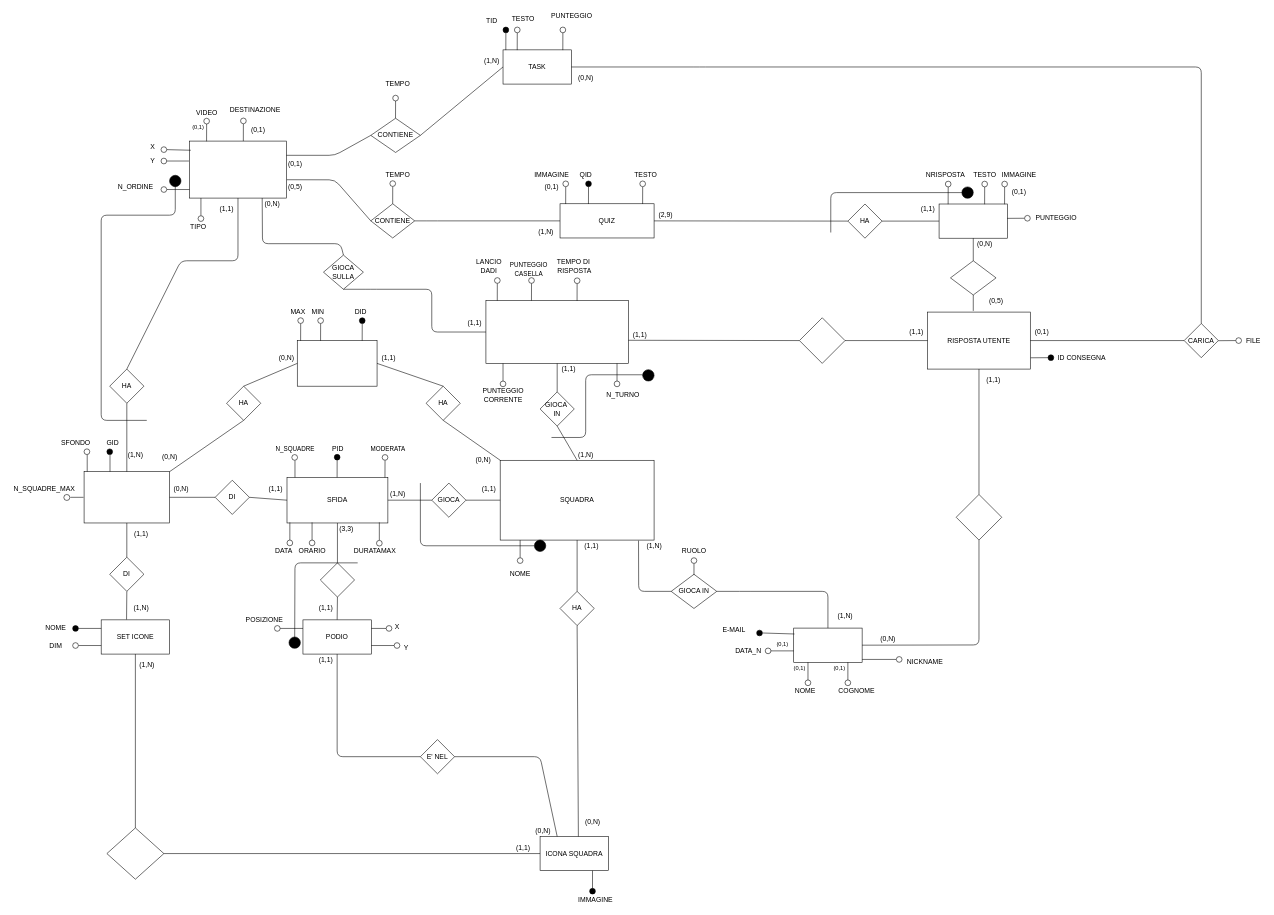
Some shapes in this 1274 by 915 pixel diagram are drawn without their labels. Each missing label, with the centre of its shape:
APPARTIENE: (135,853)
CASELLA: (237,169)
DA: (979,517)
DADO: (337,363)
DELLA: (337,579)
GIOCO: (127,497)
RISPONDE: (973,277)
RISPOSTA QUIZ: (973,220)
SCELTA: (822,340)
TURNO: (556,331)
UTENTE: (827,645)
